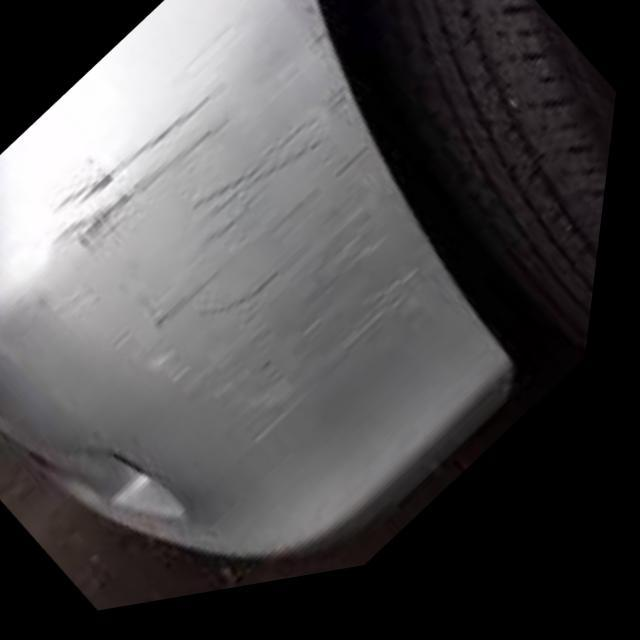rub: (49, 45, 464, 454)
